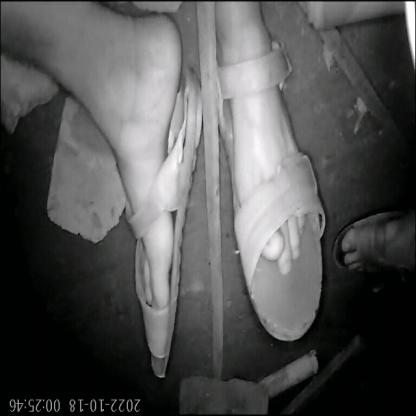leg: (4, 1, 190, 388), (203, 5, 318, 282)
